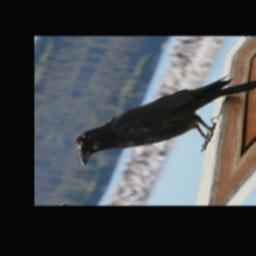Crow: (64, 57, 256, 184)
